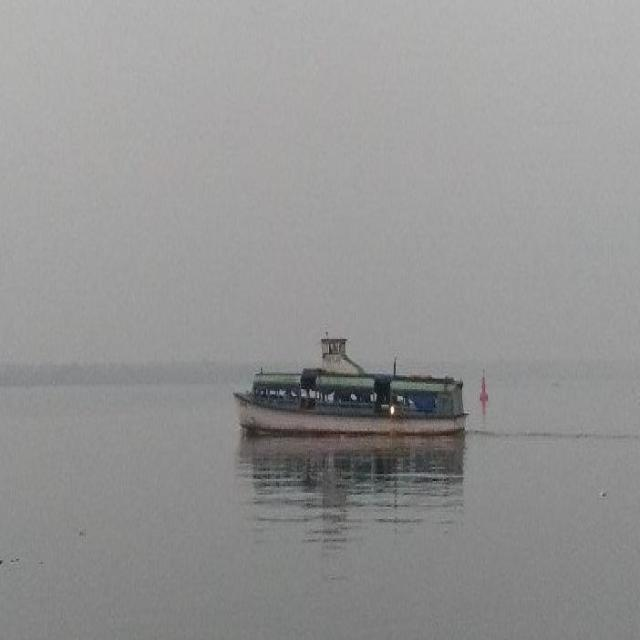fishing boat: (224, 304, 479, 444)
